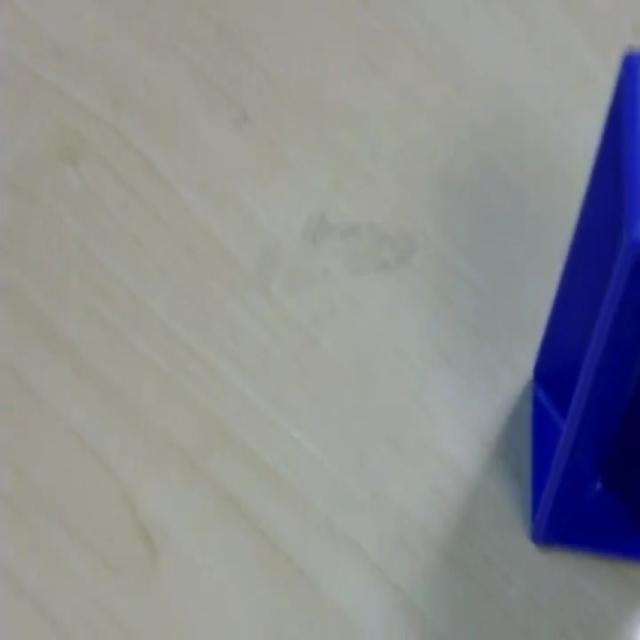blue_block: (528, 44, 639, 559)
